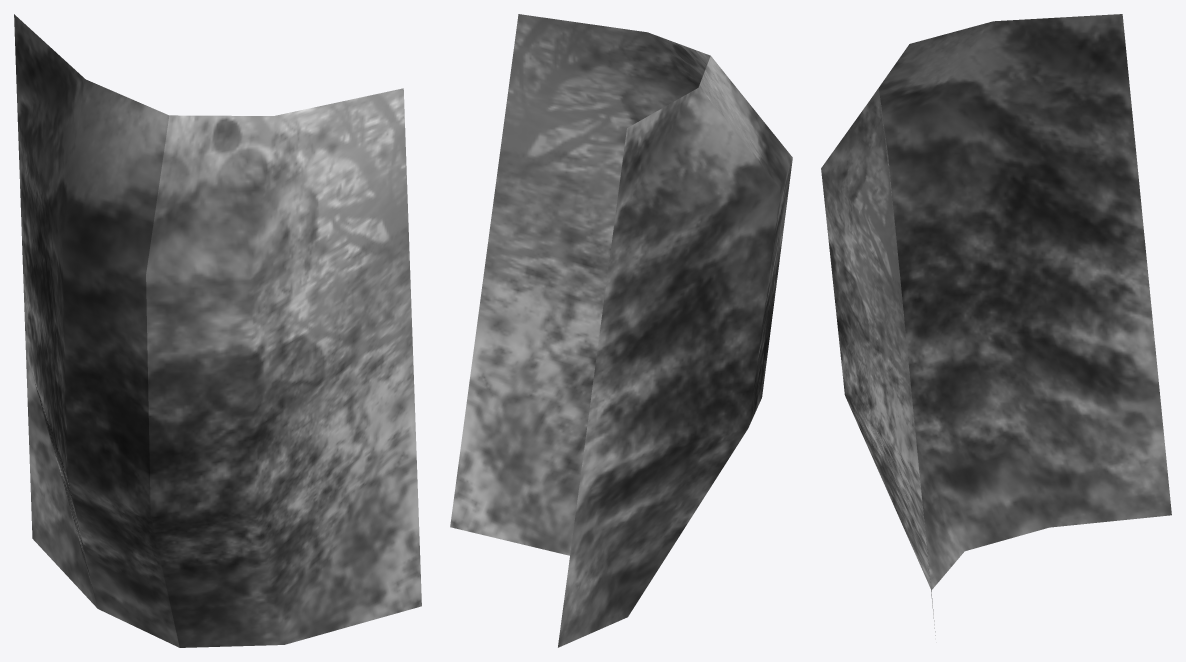
File: Storm_card_4.fbx
The picture shows the model from 3 angles, left to right: view 1: azimuth 30°, elevation 25°; view 2: azimuth 150°, elevation 25°; view 3: azimuth 270°, elevation 25°; orthographic projection. The views are drawn at different scales.
Parts seen in each view (by area): view 1: Storm_card_4; view 2: Storm_card_4; view 3: Storm_card_4.
Boxes of the visible parts, box(x1,y1,x2,y2) form: Storm_card_4: box(14, 14, 421, 647); Storm_card_4: box(450, 14, 792, 647); Storm_card_4: box(821, 14, 1171, 635).
Size of the model in its own units: 29.56 by 46.3 by 28.92.
